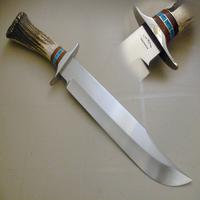knife: (11, 9, 194, 197)
